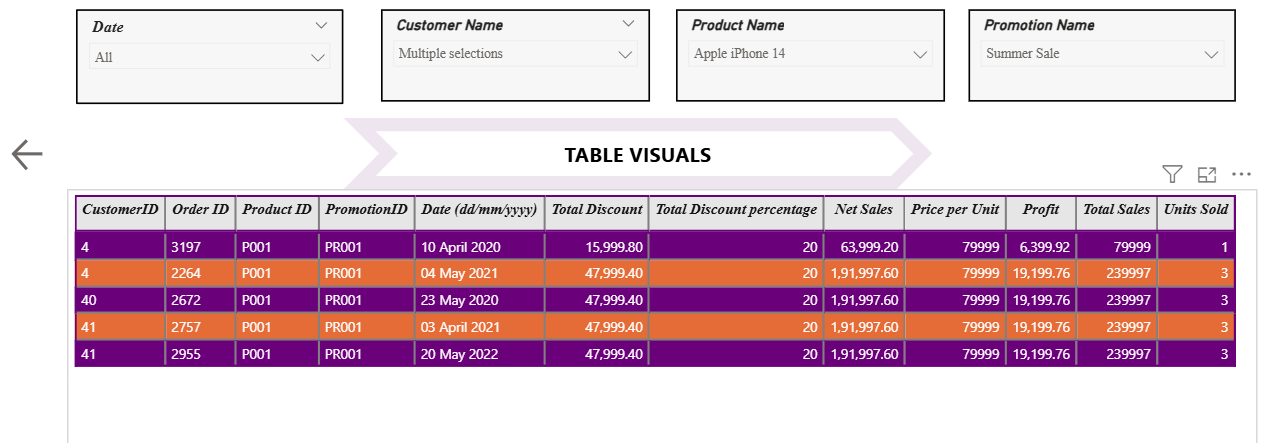

The page's visual inventory and layout, read from the dashboard file:
{"tool":"powerbi","page":{"name":"Table Visual","canvas":[1280,720],"ordinal":3},"visuals":[{"type":"tableEx","fields":{"Values":["Fact Table.CustomerID","Fact Table.Order ID","Fact Table.Product ID","Fact Table.PromotionID","Fact Table.Date (dd/mm/yyyy)","Fact Table.discount value","Fact Table.discount percentage","Fact Table.Net Sales","Fact Table.Price per Unit","Fact Table.Profit ","Fact Table.Total Sales","Fact Table.Units Sold"]},"box":[70,161.9,1163.6,558.5],"z":0},{"type":"slicer","fields":{"Values":["Date Table 1.Date"]},"box":[28.8,49.4,262.1,91.9],"z":1000},{"type":"slicer","fields":{"Values":["Dim Customers.Customer Name"]},"box":[341.5,51.2,262.2,90.2],"z":2000},{"type":"slicer","fields":{"Values":["Dim Product.Product Name"]},"box":[655.9,50.8,262.1,90.6],"z":3000},{"type":"slicer","fields":{"Values":["Dim Promotion.Promotion Name"]},"box":[970.7,51.2,262.2,90.2],"z":4000}]}

Visuals, with their boxes on the page's 1280x720 design canvas (x1, y1, x2, y2). These are canvas units, not pixel positions in the 1273x443 screenshot, which may show the page scaled, cropped or inside an application window:
tableEx - Fact Table.CustomerID x Fact Table.Order ID: crop(70, 162, 1234, 720)
slicer - Date Table 1.Date: crop(29, 49, 291, 141)
slicer - Dim Customers.Customer Name: crop(342, 51, 604, 141)
slicer - Dim Product.Product Name: crop(656, 51, 918, 141)
slicer - Dim Promotion.Promotion Name: crop(971, 51, 1233, 141)
